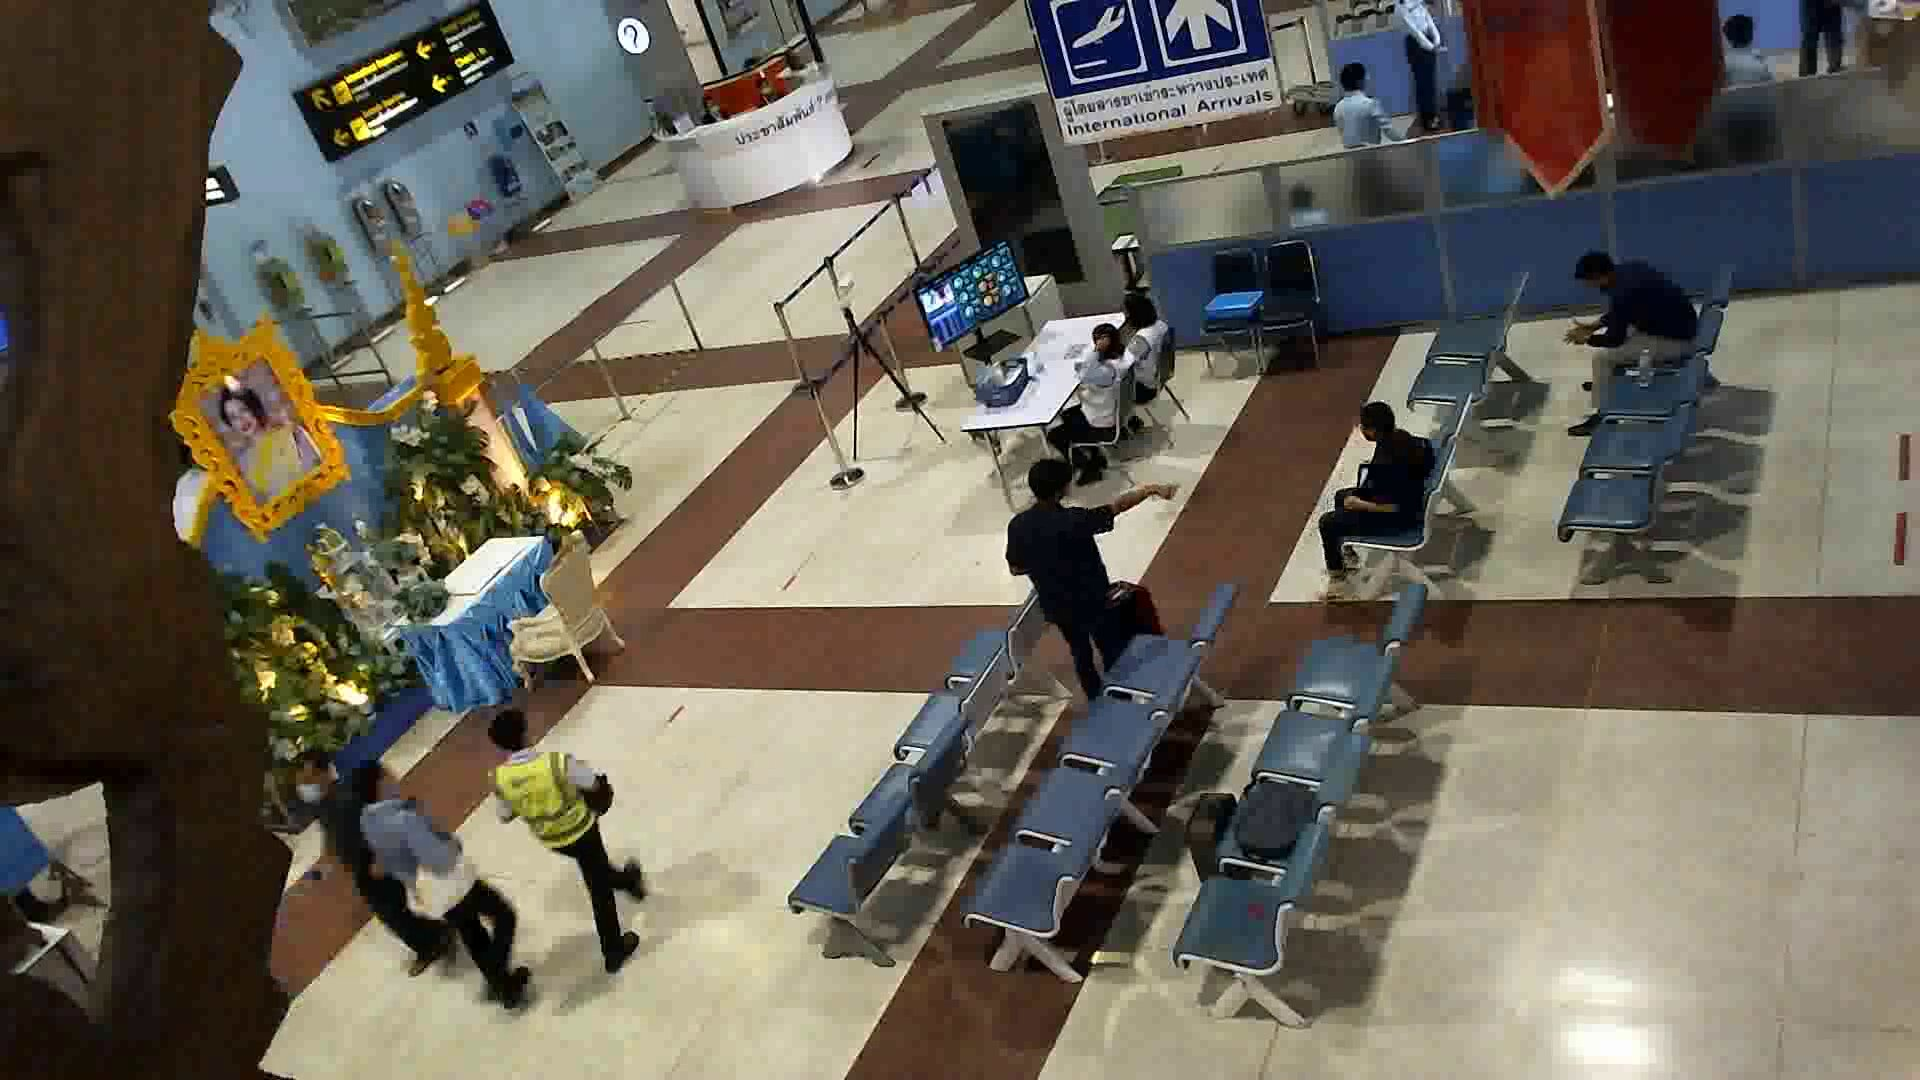backpack: (1233, 772, 1312, 866)
luggage: (1179, 786, 1249, 899), (1110, 578, 1162, 659)
people: (339, 757, 539, 1041), (485, 695, 653, 988), (291, 751, 445, 995), (991, 451, 1126, 699), (1562, 241, 1703, 445), (1306, 399, 1439, 586), (1043, 336, 1135, 484), (1110, 286, 1176, 413)
